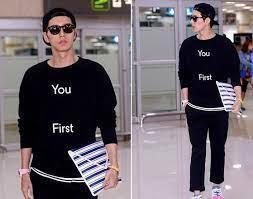pants: (184, 96, 228, 194)
sweater: (16, 53, 116, 178), (176, 32, 242, 107)
